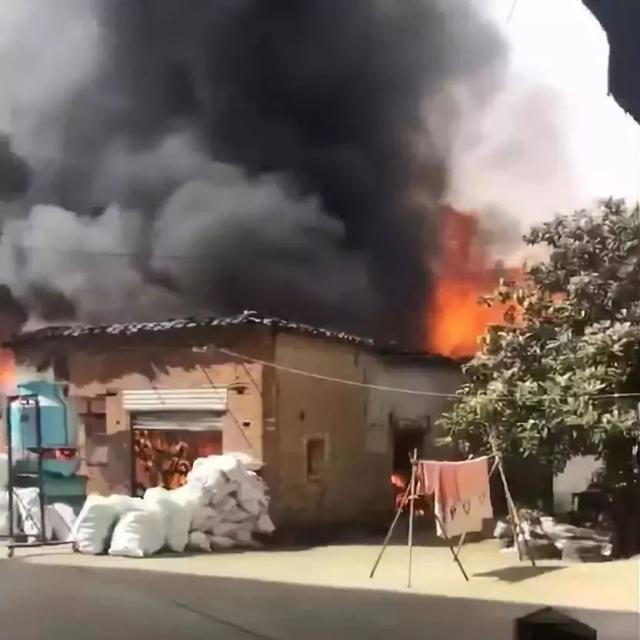Smoke: (0, 2, 432, 324)
